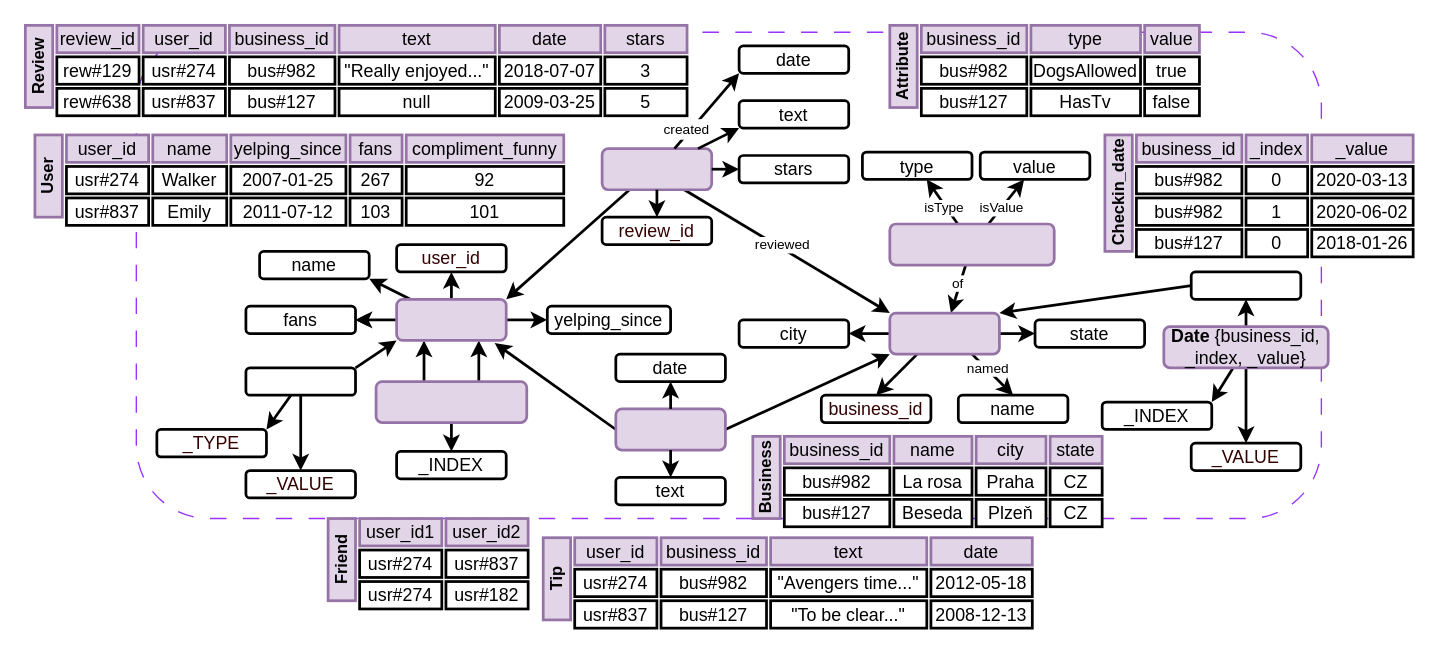
Some shapes in this 1437 by 652 pixel diagram are drawn without their labels. Each missing label, with the centre of its shape:
Attribute {business_id, type}: pixel 971 244
Business {business_id}: pixel 944 333
checkin: pixel 1245 285
compliment: pixel 300 381
Friend {user_id, user_id}: pixel 450 401
Review {review_id}: pixel 656 168
Tip {user_id, business_id}: pixel 670 429
User {user_id}: pixel 451 319
